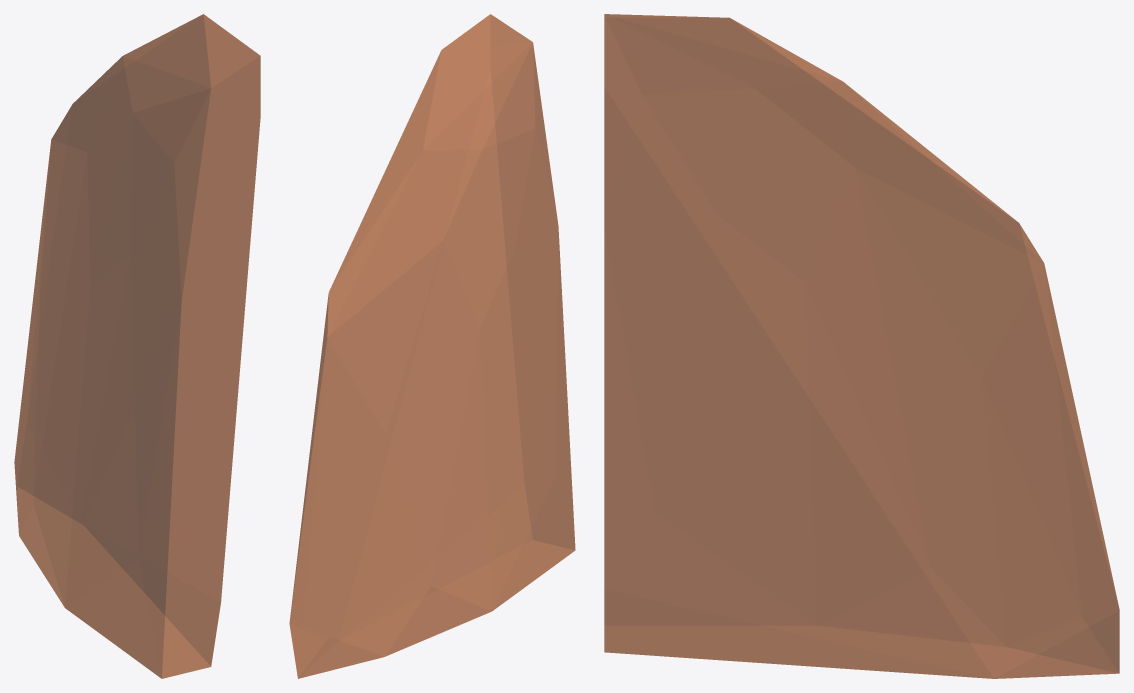
The picture shows the model from 3 angles, left to right: view 1: azimuth 30°, elevation 25°; view 2: azimuth 150°, elevation 25°; view 3: azimuth 270°, elevation 25°; orthographic projection. The views are drawn at different scales.
Visible parts, largest first — view 1: Shape_IndexedFaceSet.038_Shape_IndexedFaceSet.4592; view 2: Shape_IndexedFaceSet.038_Shape_IndexedFaceSet.4592; view 3: Shape_IndexedFaceSet.038_Shape_IndexedFaceSet.4592.
Boxes of the visible parts, x1,y1,x2,y2 form: Shape_IndexedFaceSet.038_Shape_IndexedFaceSet.4592: (14, 14, 260, 678); Shape_IndexedFaceSet.038_Shape_IndexedFaceSet.4592: (289, 14, 575, 678); Shape_IndexedFaceSet.038_Shape_IndexedFaceSet.4592: (604, 14, 1119, 678).
Size of the model in its own units: 0.0152 by 0.0881 by 0.0622.
